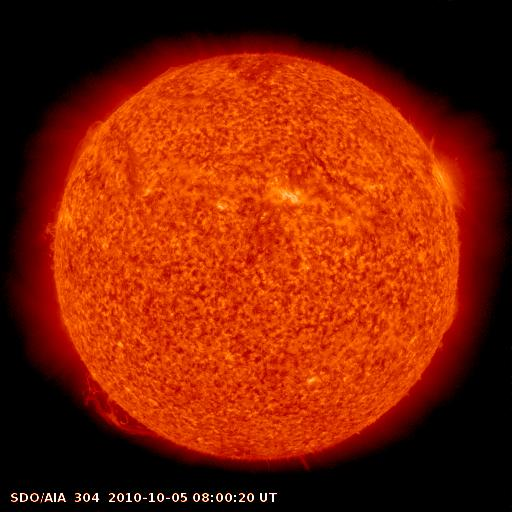prominence: (69, 367, 165, 446), (60, 107, 112, 185), (29, 207, 69, 276), (438, 290, 473, 341)
